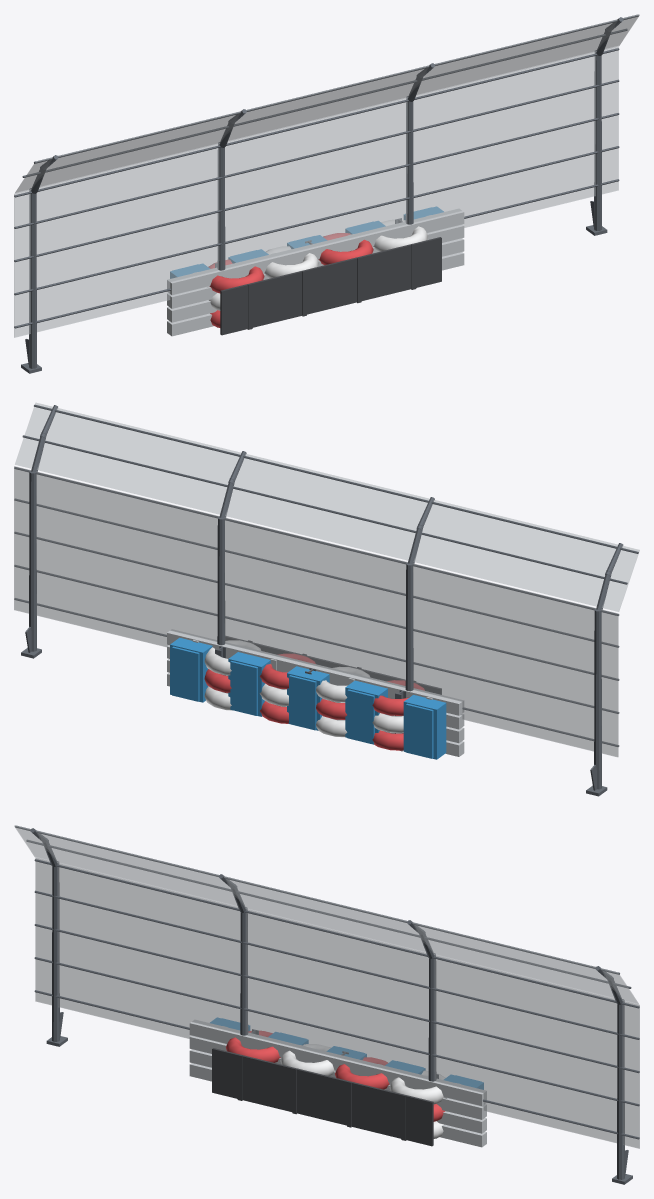
Rendered from env_barriers_fencing.glb.
3 views of the same model, one above another, from view 1: azimuth 30°, elevation 25°; view 2: azimuth 150°, elevation 25°; view 3: azimuth 330°, elevation 25° (orthographic).
Parts seen in each view (by area): view 1: Barrier_CatchFence, Barrier_TireWall-col, Barrier_SAFER-col; view 2: Barrier_CatchFence, Barrier_SAFER-col, Barrier_TireWall-col; view 3: Barrier_CatchFence, Barrier_TireWall-col, Barrier_SAFER-col.
Part boxes in pixels (x1,y1,x2,y2): Barrier_CatchFence: [14, 14, 639, 373]; Barrier_TireWall-col: [208, 220, 441, 335]; Barrier_SAFER-col: [167, 206, 464, 336]; Barrier_CatchFence: [14, 402, 639, 796]; Barrier_SAFER-col: [167, 629, 464, 759]; Barrier_TireWall-col: [204, 636, 441, 750]; Barrier_CatchFence: [14, 825, 639, 1184]; Barrier_TireWall-col: [212, 1031, 445, 1146]; Barrier_SAFER-col: [189, 1017, 486, 1147].
Size of the model in its own units: 12.4 by 4.54 by 1.39.
